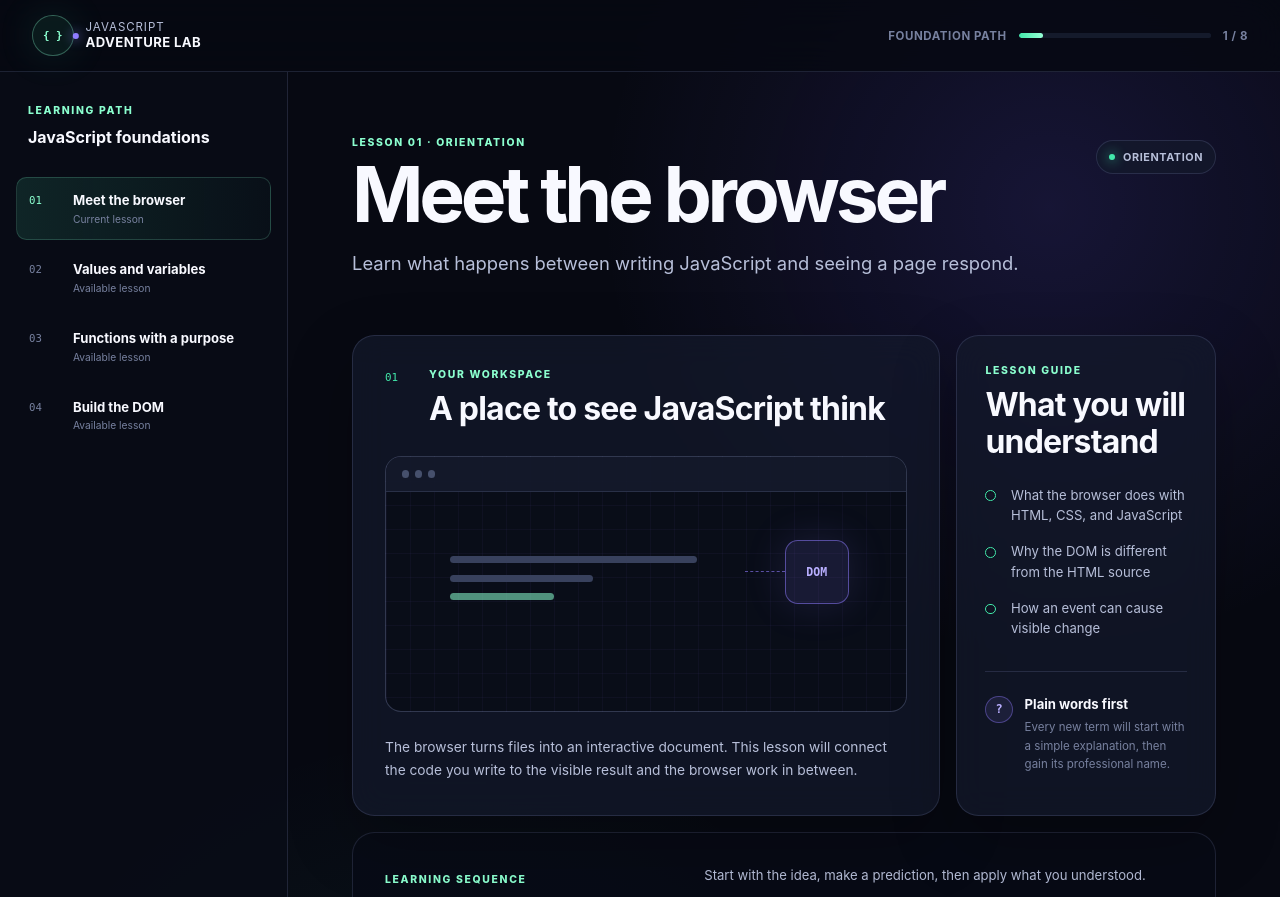
Test: App › selects a lesson and moves focus to its content
The width and height of the screenshot is (1280, 897).
What coordinates should you click on to do the following:
click the link "02 Values and variables Available lesson"
I would click on:
 (117, 277)
Its box is [29,261,206,294].
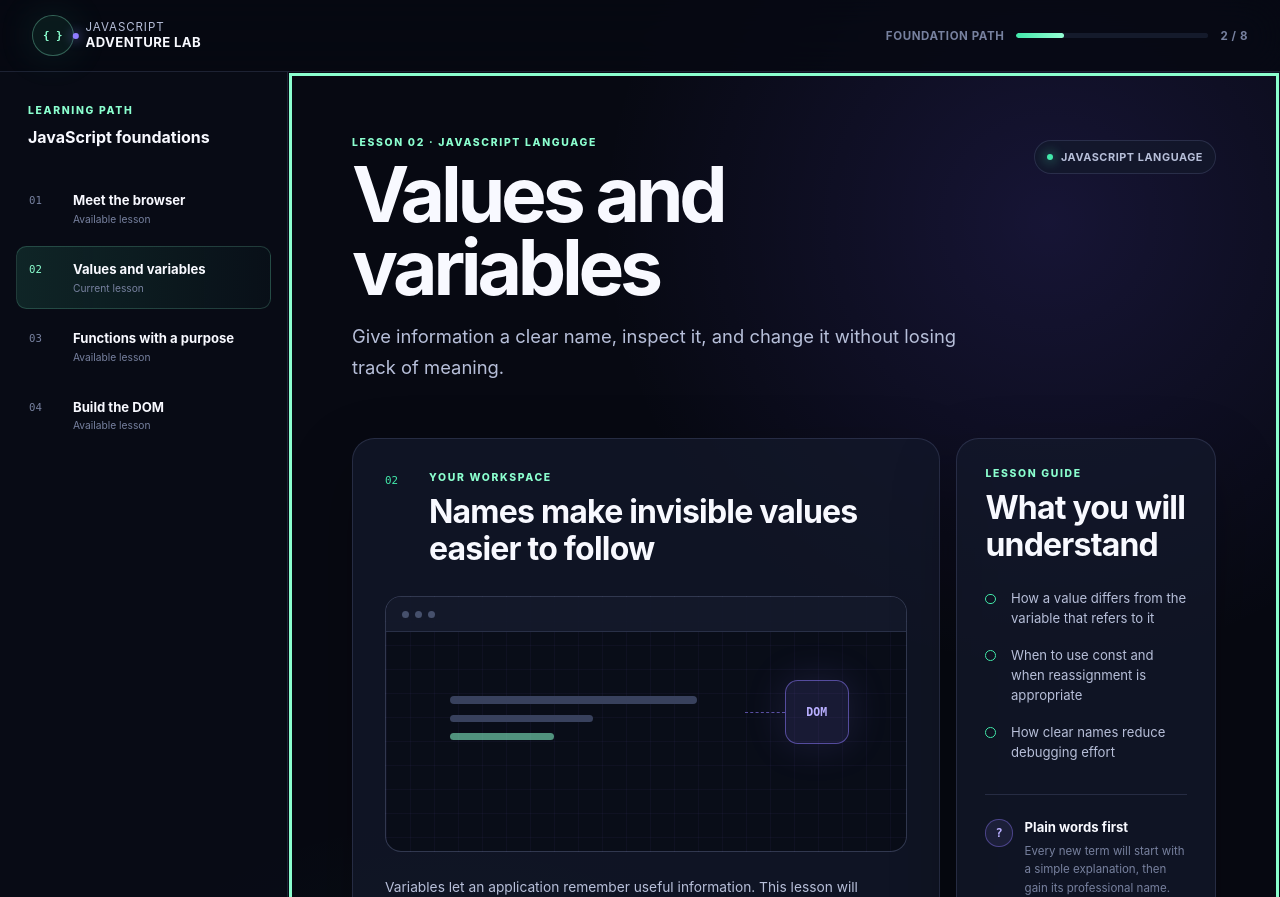
expect the heading "Values and variables" is shown: met, box [352,148,724,314]
